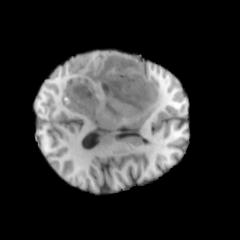glioma: (59, 52, 164, 121)
